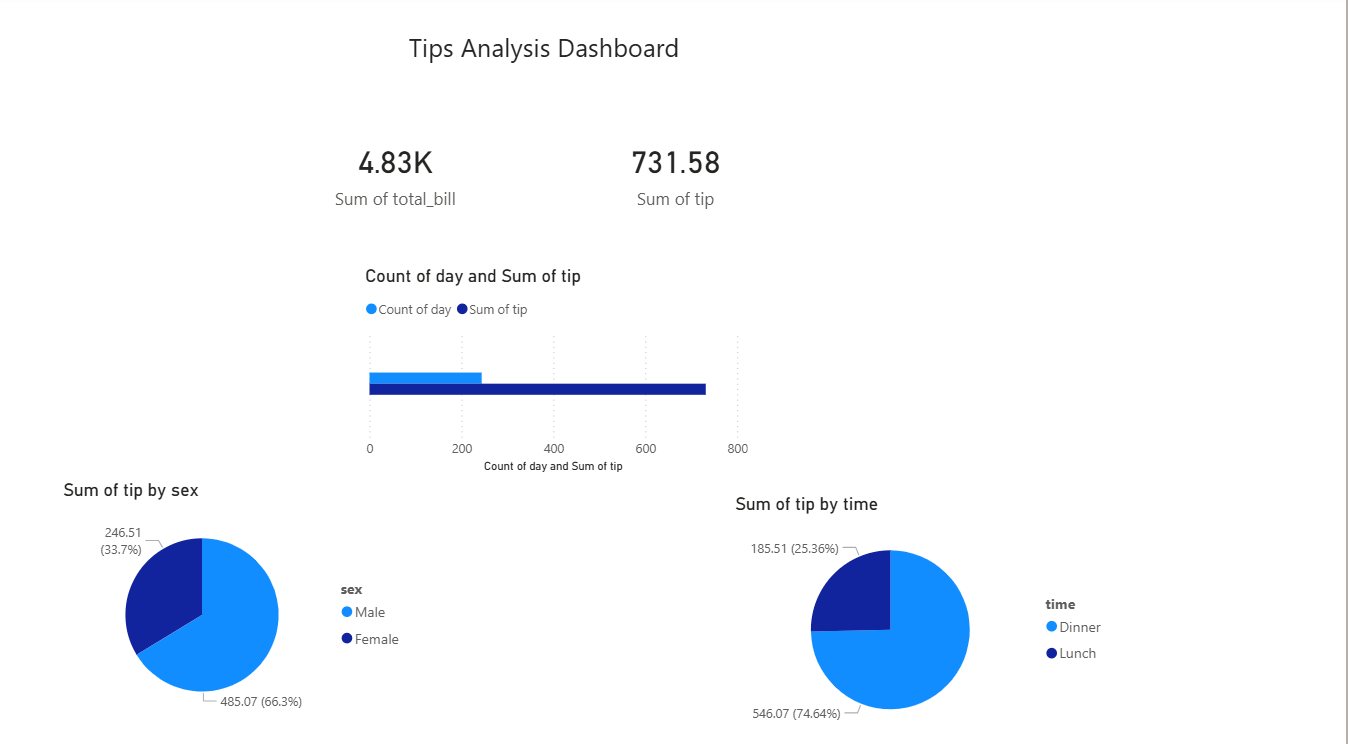

The page's visual inventory and layout, read from the dashboard file:
{"tool":"powerbi","page":{"name":"Page ١","canvas":[1280,720],"ordinal":0},"visuals":[{"type":"card","fields":{"Values":["Sum(tips.total_bill)"]},"box":[303.3,104.9,154.1,132.8],"z":0},{"type":"clusteredBarChart","fields":{"Y":["CountNonNull(tips.day)","Sum(tips.tip)"]},"box":[345.9,259,372.1,200],"z":1000},{"type":"pieChart","fields":{"Category":["tips.sex"],"Y":["Sum(tips.tip)"]},"box":[60.7,462.3,337.7,234.4],"z":2000},{"type":"pieChart","fields":{"Category":["tips.time"],"Y":["Sum(tips.tip)"]},"box":[696.7,475.4,365.6,236.1],"z":3000},{"type":"textbox","box":[344.3,31.1,352.5,49.2],"z":4000},{"type":"card","fields":{"Values":["Sum(tips.tip)"]},"box":[550.8,104.9,188.5,132.8],"z":5000}]}

Visuals, with their boxes in screenshot pixels (x1, y1, x2, y2), scaled from the page's 1280x720 canvas onto the 1348x744 screenshot:
card - Sum(tips.total_bill): 319:108:482:246
clusteredBarChart - CountNonNull(tips.day) x Sum(tips.tip): 364:268:756:474
pieChart - tips.sex x Sum(tips.tip): 64:478:420:720
pieChart - tips.time x Sum(tips.tip): 734:491:1119:735
textbox: 363:32:734:83
card - Sum(tips.tip): 580:108:779:246
